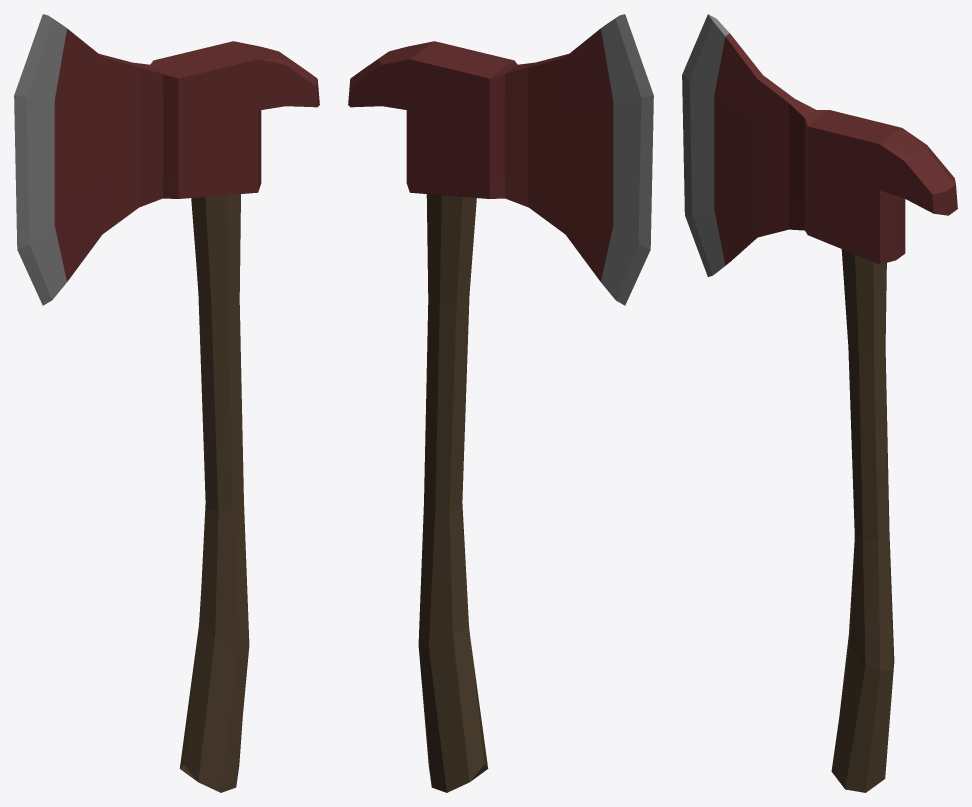
The model's file is axe.glb.
The picture shows the model from 3 angles, left to right: view 1: azimuth 30°, elevation 25°; view 2: azimuth 150°, elevation 25°; view 3: azimuth 330°, elevation 25°; orthographic projection. The views are drawn at different scales.
Parts seen in each view (by area): view 1: axe; view 2: axe; view 3: axe.
Boxes of the visible parts, <box> form: axe: <box>14,14,319,792</box>; axe: <box>348,14,653,792</box>; axe: <box>682,14,957,792</box>.
Size of the model in its own units: 0.3101 by 0.8 by 0.0467.
